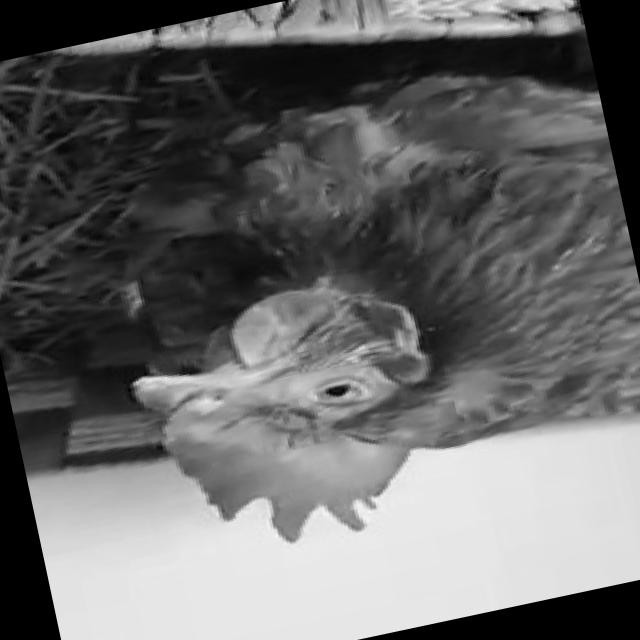bird flu: (52, 29, 640, 598)
